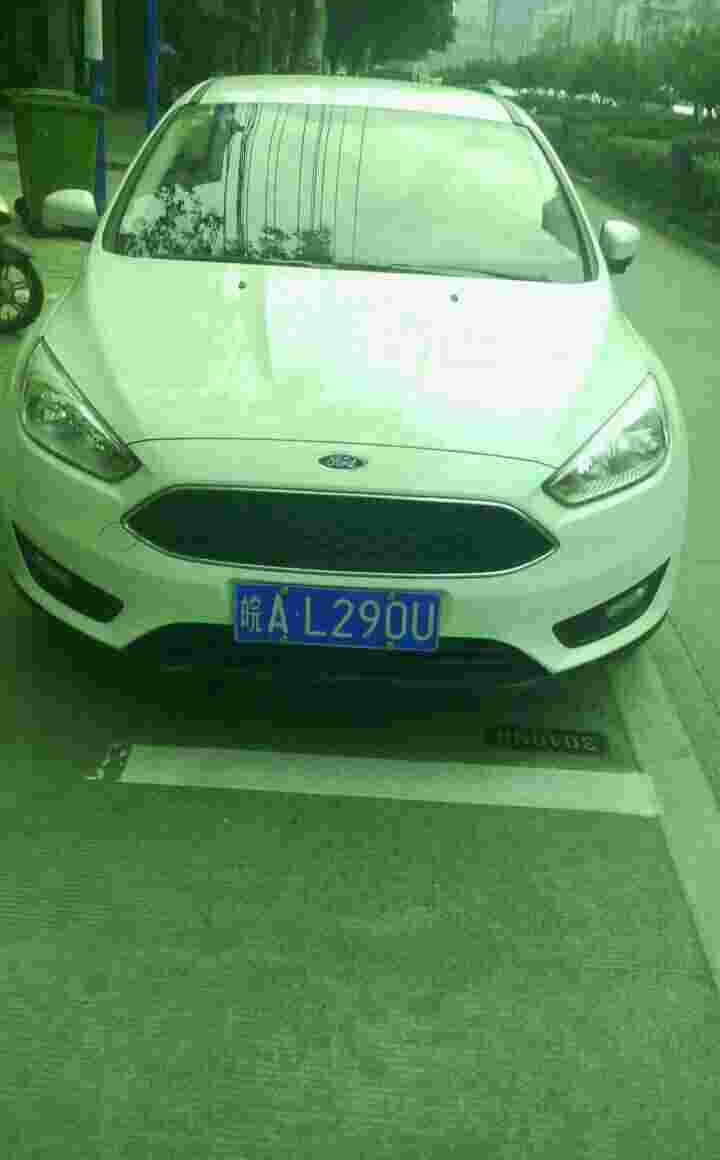license_plate: (228, 577, 443, 657)
